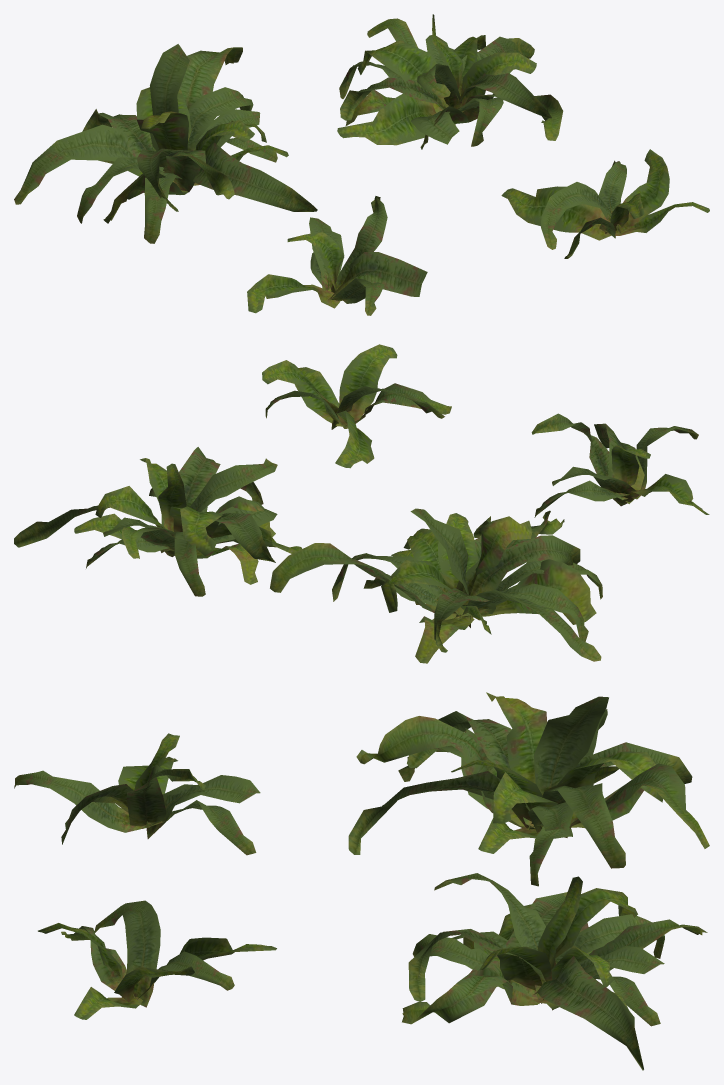
Rendered from fern_02.glb.
3 renders of one model, top to bottom at view 1: azimuth 30°, elevation 25°; view 2: azimuth 150°, elevation 25°; view 3: azimuth 270°, elevation 25°, orthographic. The views are drawn at different scales.
Parts seen in each view (by area): view 1: fern_02_b, fern_02_c, fern_02_d, fern_02_a; view 2: fern_02_b, fern_02_c, fern_02_d, fern_02_a; view 3: fern_02_b, fern_02_c, fern_02_a, fern_02_d.
Boxes of the visible parts, left/top/right/bottom form: fern_02_b: left=14, top=44, right=317, bottom=243; fern_02_c: left=337, top=14, right=563, bottom=149; fern_02_d: left=501, top=149, right=709, bottom=258; fern_02_a: left=247, top=196, right=427, bottom=315; fern_02_b: left=270, top=508, right=602, bottom=663; fern_02_c: left=14, top=447, right=301, bottom=596; fern_02_d: left=262, top=344, right=451, bottom=468; fern_02_a: left=531, top=413, right=709, bottom=517; fern_02_b: left=348, top=692, right=709, bottom=886; fern_02_c: left=402, top=873, right=707, bottom=1070; fern_02_a: left=14, top=733, right=260, bottom=855; fern_02_d: left=38, top=900, right=276, bottom=1019.
Size of the model in its own units: 1.97 by 0.4277 by 1.72.
1 material, 1 textured.
